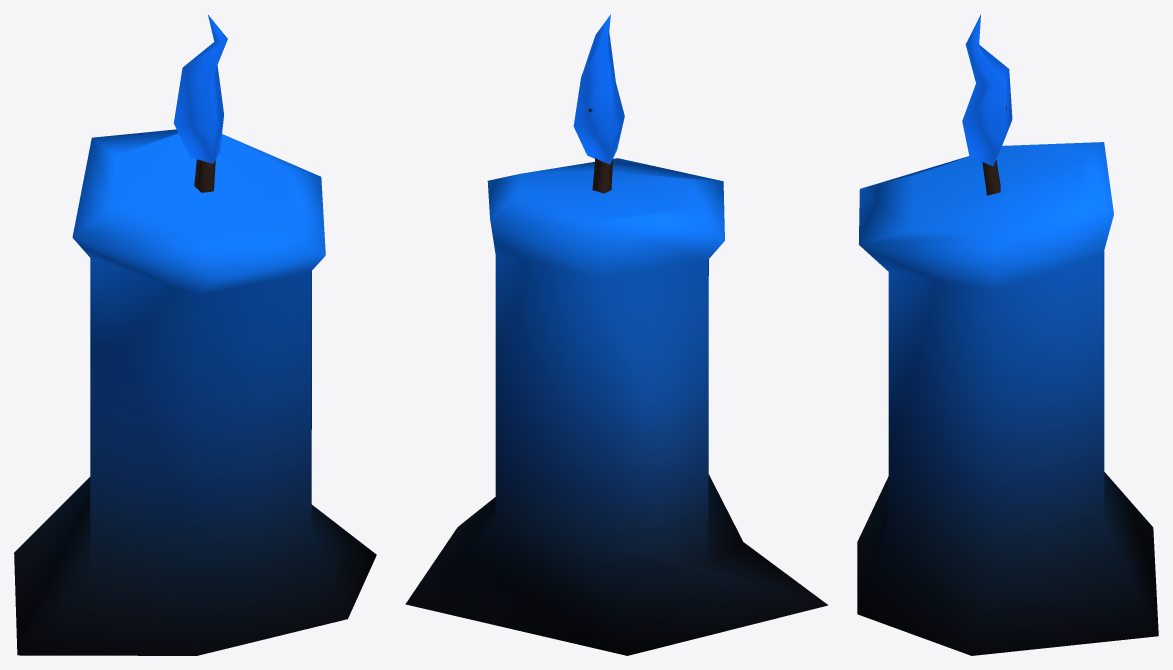
The model's file is CandleShapeD.012.glb.
3 renders of one model, left to right at view 1: azimuth 30°, elevation 25°; view 2: azimuth 150°, elevation 25°; view 3: azimuth 270°, elevation 25°, orthographic. The views are drawn at different scales.
Visible parts, largest first — view 1: CandleShapeD.012; view 2: CandleShapeD.012; view 3: CandleShapeD.012.
Boxes of the visible parts, <box> form: CandleShapeD.012: <box>14,15,376,655</box>; CandleShapeD.012: <box>405,14,828,655</box>; CandleShapeD.012: <box>857,14,1158,655</box>.
Size of the model in its own units: 0.1822 by 0.2697 by 0.1308.
Materials: 2 (2 with a texture image).
